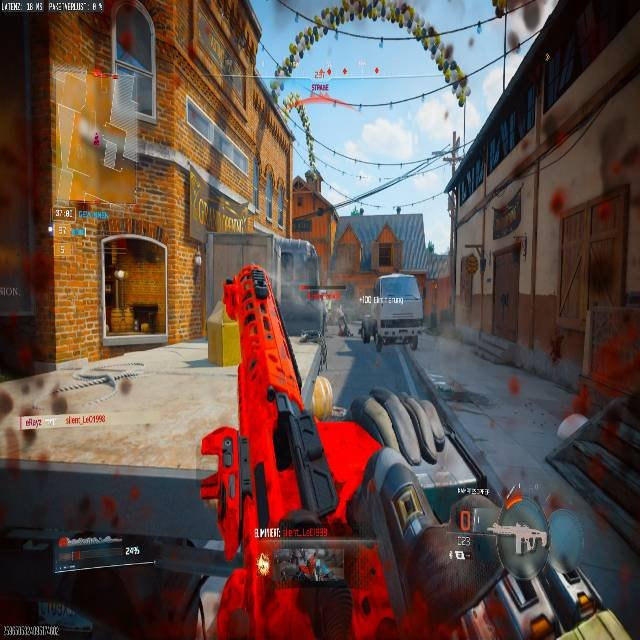player: (336, 305, 350, 336)
